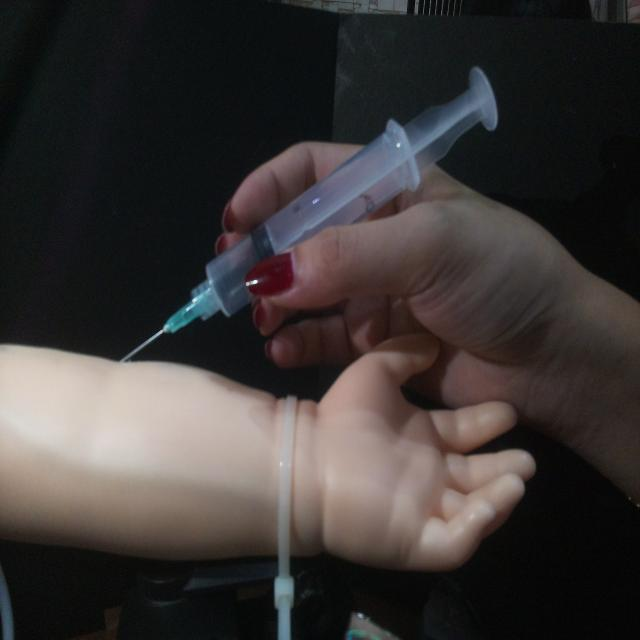30deg: (115, 61, 502, 366)
